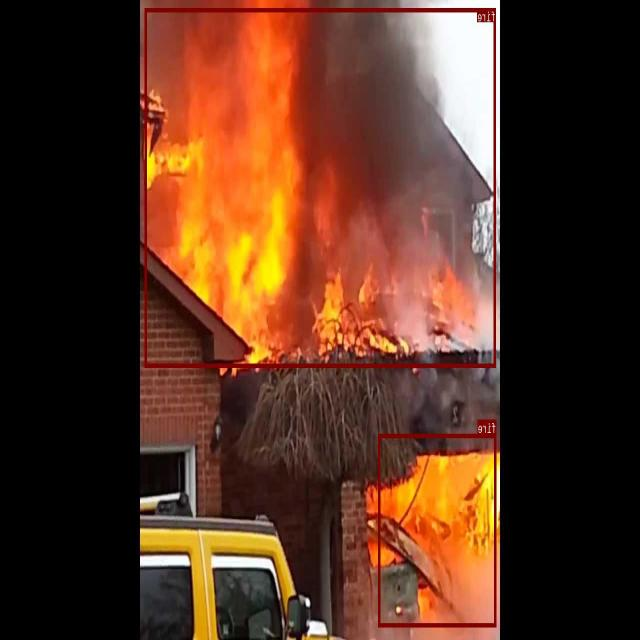fire: (146, 8, 497, 366), (378, 434, 497, 626)
